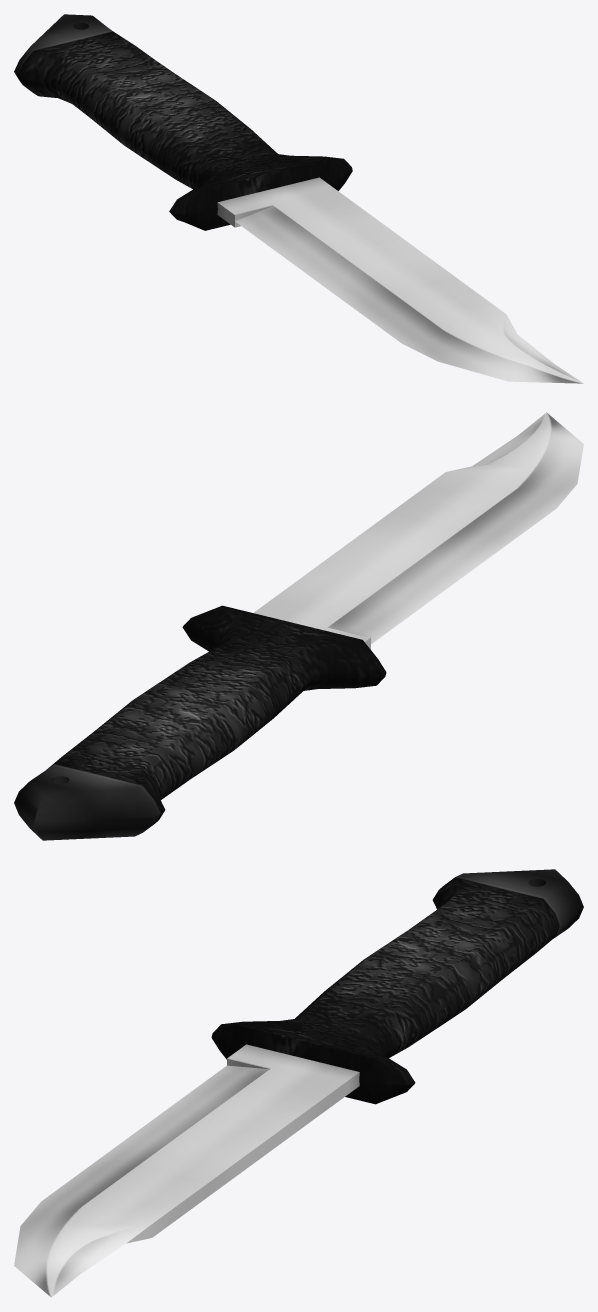
The model's file is knife.fbx.
The picture shows the model from 3 angles, top to bottom: view 1: azimuth 30°, elevation 25°; view 2: azimuth 150°, elevation 25°; view 3: azimuth 330°, elevation 25°; orthographic projection. The views are drawn at different scales.
Visible parts, largest first — view 1: mqo_mesh; view 2: mqo_mesh; view 3: mqo_mesh.
Boxes of the visible parts, bbox=[...] form: mqo_mesh: bbox=[14, 14, 583, 383]; mqo_mesh: bbox=[14, 412, 583, 840]; mqo_mesh: bbox=[14, 869, 583, 1297].
Bounding box in the file's own units: 44.79 × 10.59 × 210.
